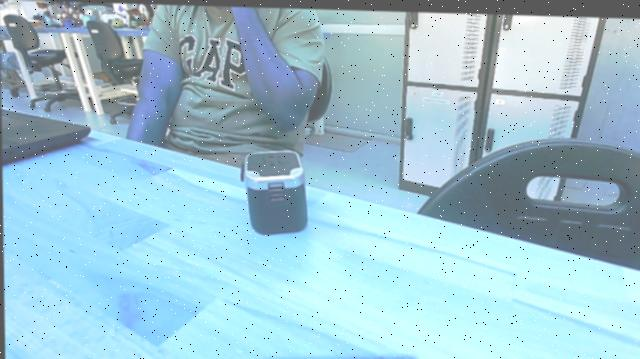adapter: (241, 149, 313, 238)
